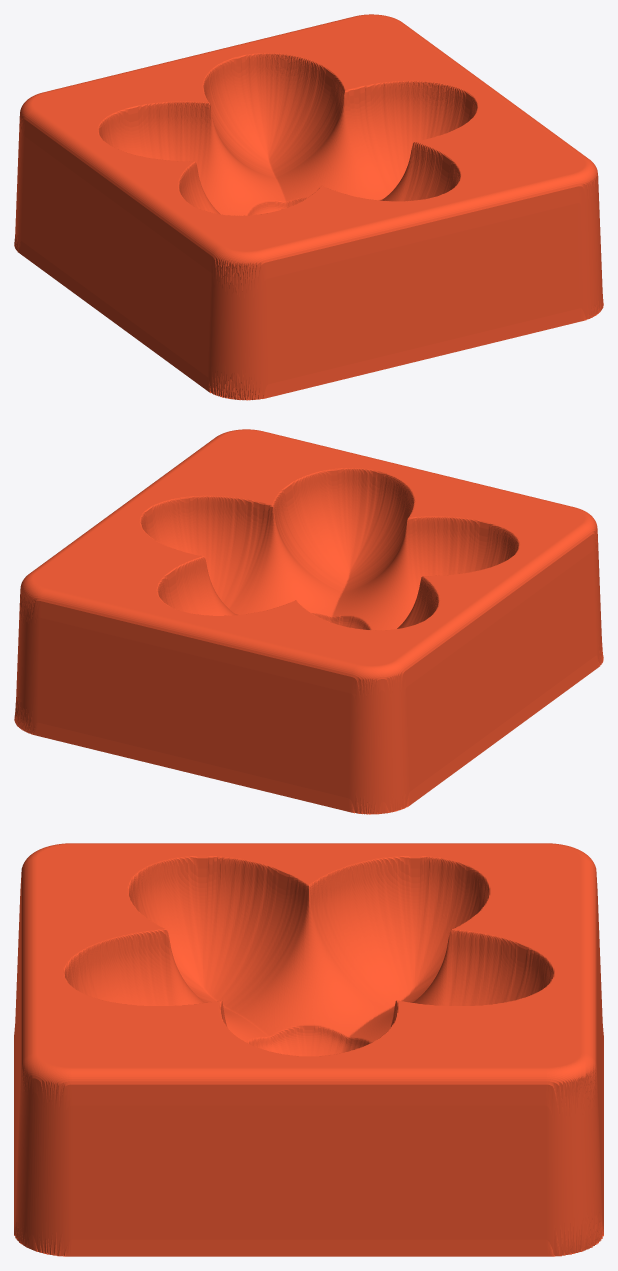
Rendered from mold.glb.
3 views of the same model, one above another, from view 1: azimuth 30°, elevation 25°; view 2: azimuth 150°, elevation 25°; view 3: azimuth 270°, elevation 25° (orthographic). The views are drawn at different scales.
Parts seen in each view (by area): view 1: geometry_0; view 2: geometry_0; view 3: geometry_0.
Part boxes in pixels (<box>): geometry_0: <box>14,14,603,400</box>; geometry_0: <box>14,429,603,814</box>; geometry_0: <box>14,843,603,1256</box>.
Bounding box in the file's own units: 0.0898 × 0.031 × 0.0924.
